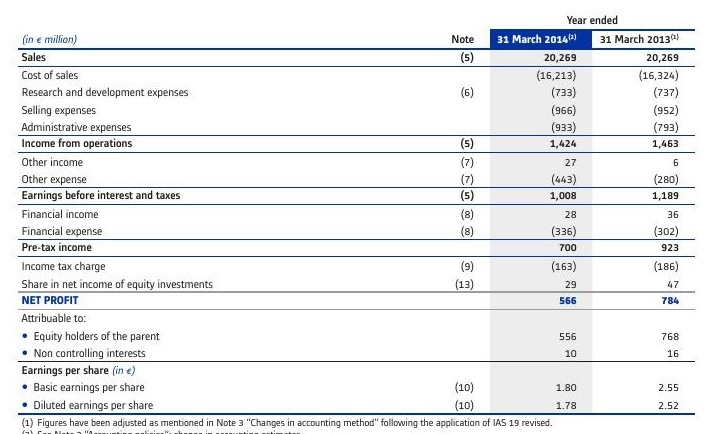table: (0, 0, 707, 434)
